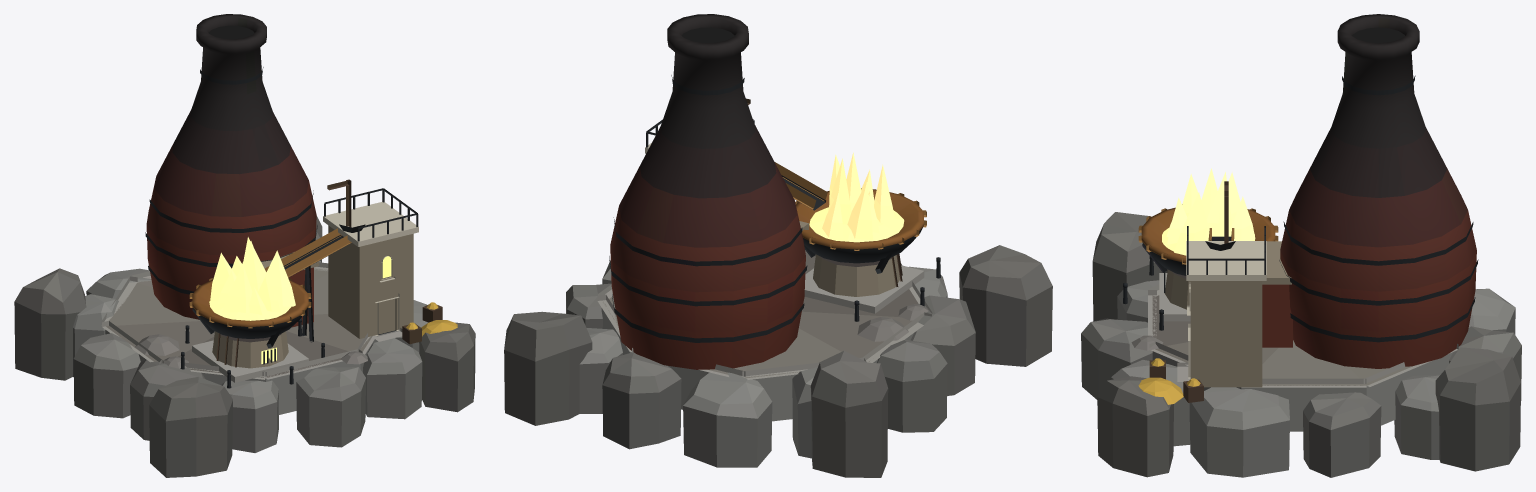
The model's file is burn.glb.
The picture shows the model from 3 angles, left to right: view 1: azimuth 30°, elevation 25°; view 2: azimuth 150°, elevation 25°; view 3: azimuth 270°, elevation 25°; orthographic projection. The views are drawn at different scales.
Visible parts, largest first — view 1: burn_body, fire_core; view 2: burn_body, fire_core; view 3: burn_body, fire_core.
Boxes of the visible parts, x1=… form: burn_body: x1=14, y1=14, x2=475, y2=477; fire_core: x1=209, y1=237, x2=295, y2=320; burn_body: x1=504, y1=14, x2=1052, y2=477; fire_core: x1=809, y1=152, x2=904, y2=242; burn_body: x1=1081, y1=14, x2=1521, y2=477; fire_core: x1=1162, y1=168, x2=1255, y2=255.
Size of the model in its own units: 29.18 by 27.15 by 29.57.
